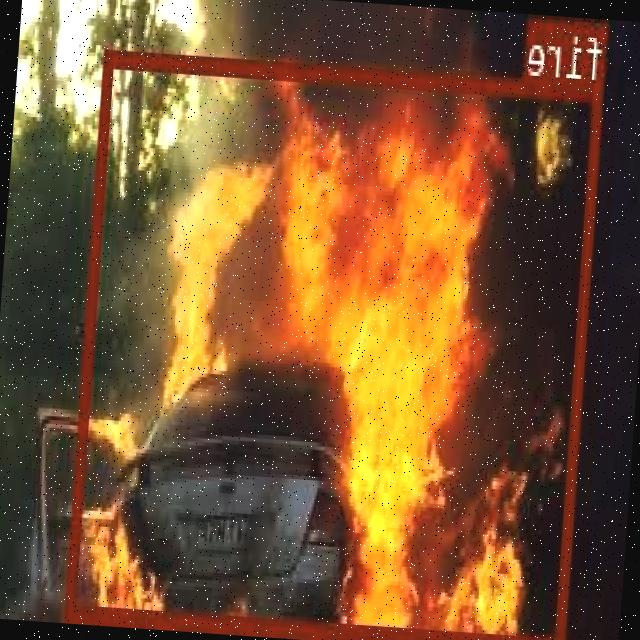fire: (68, 48, 604, 640)
